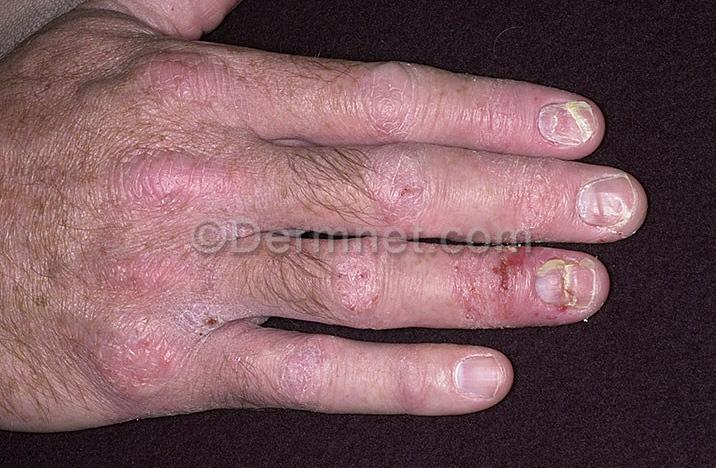eritema 1: (479, 72, 644, 328)
excoriacion 2: (464, 244, 570, 320)
exudacion 3: (487, 241, 538, 297)
xerosis 2: (141, 61, 640, 344)
